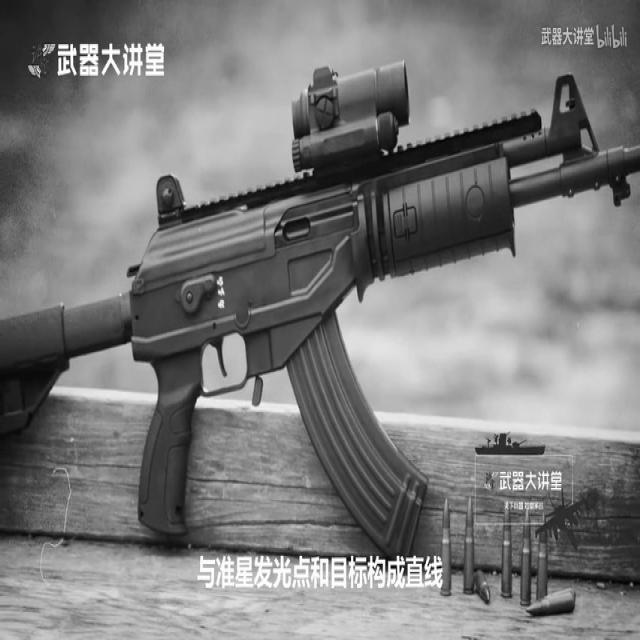Sub-machine-gun: (31, 52, 640, 587)
